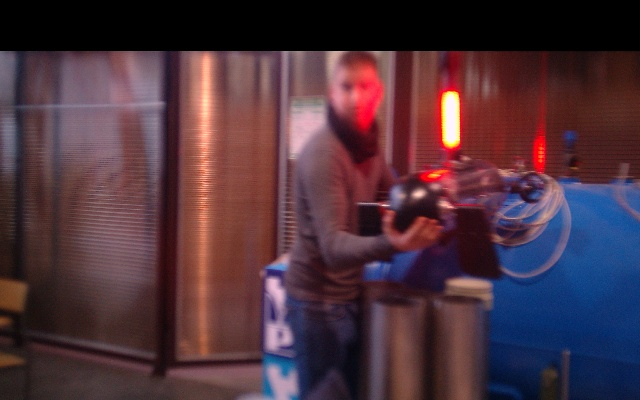red: (439, 89, 461, 151)
